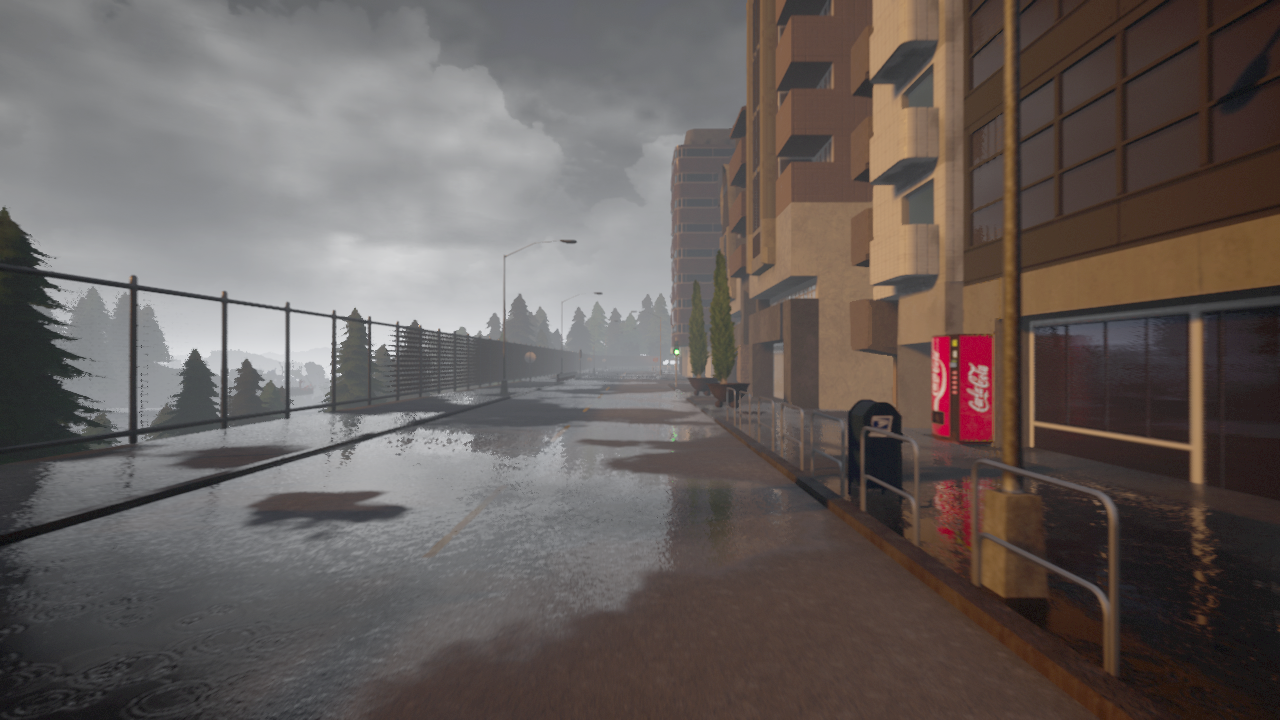green: (673, 340, 679, 356)
